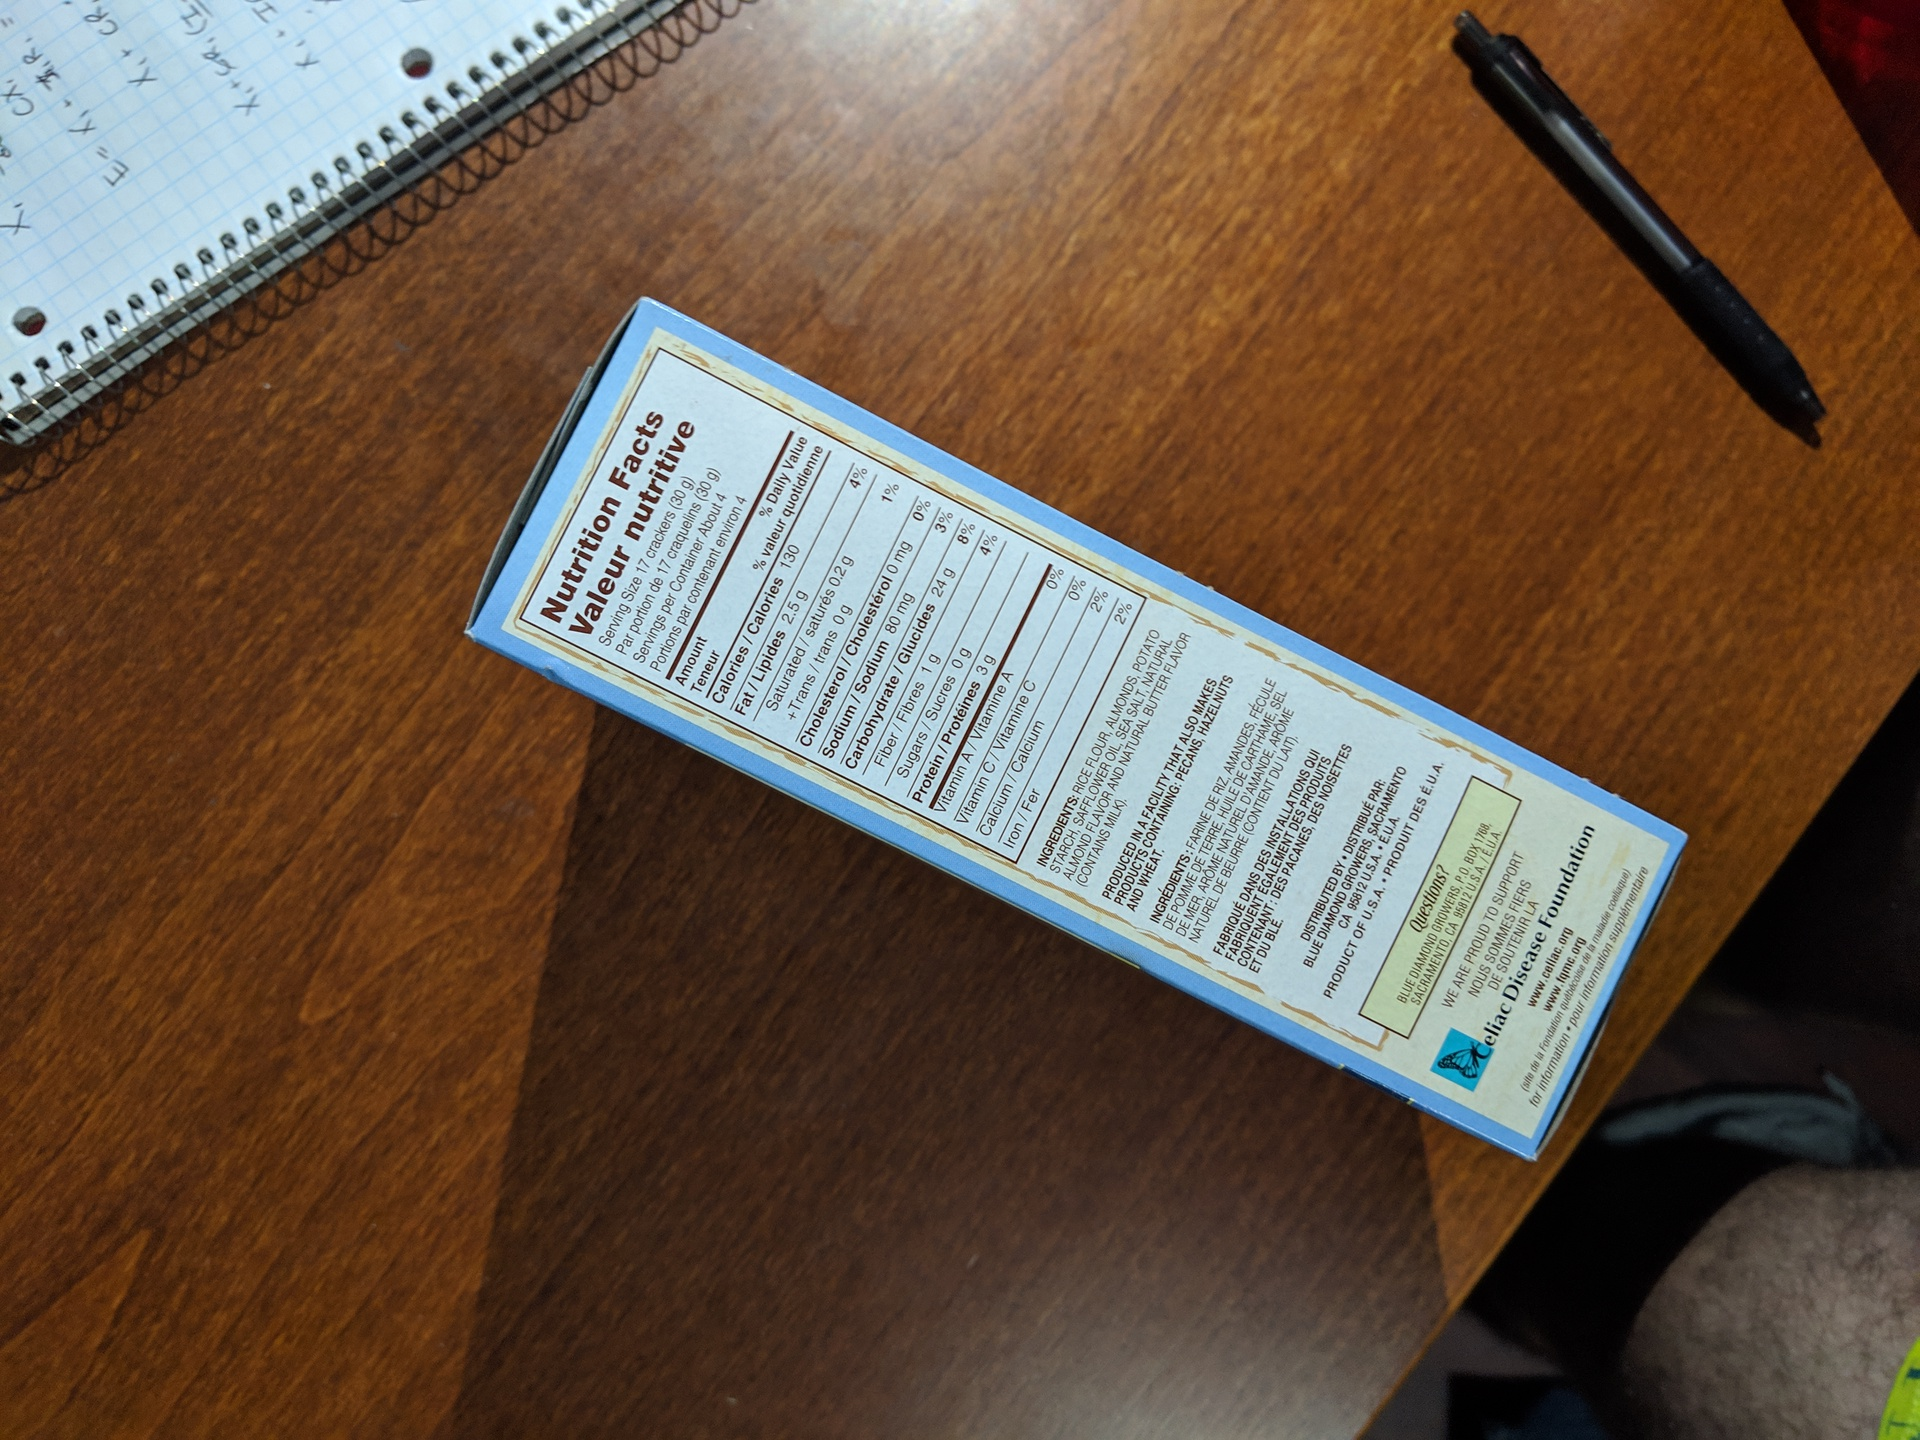blue_diamond_nut_thins_almond_seasalt: (543, 436, 1606, 1027)
